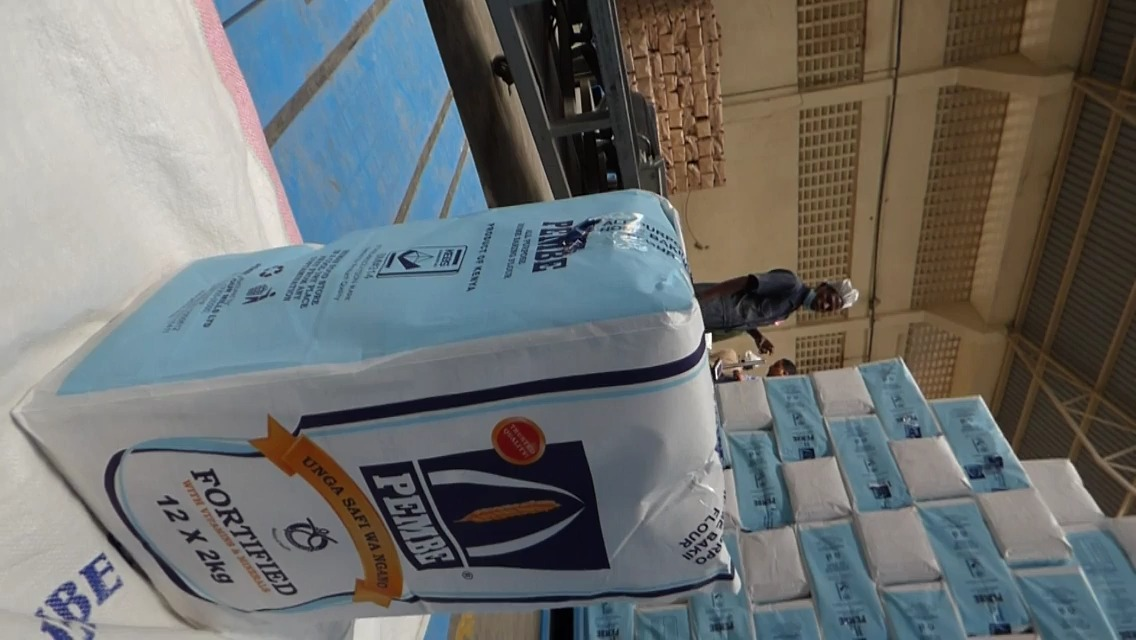wheat_flour_blue_label: (16, 197, 742, 618)
